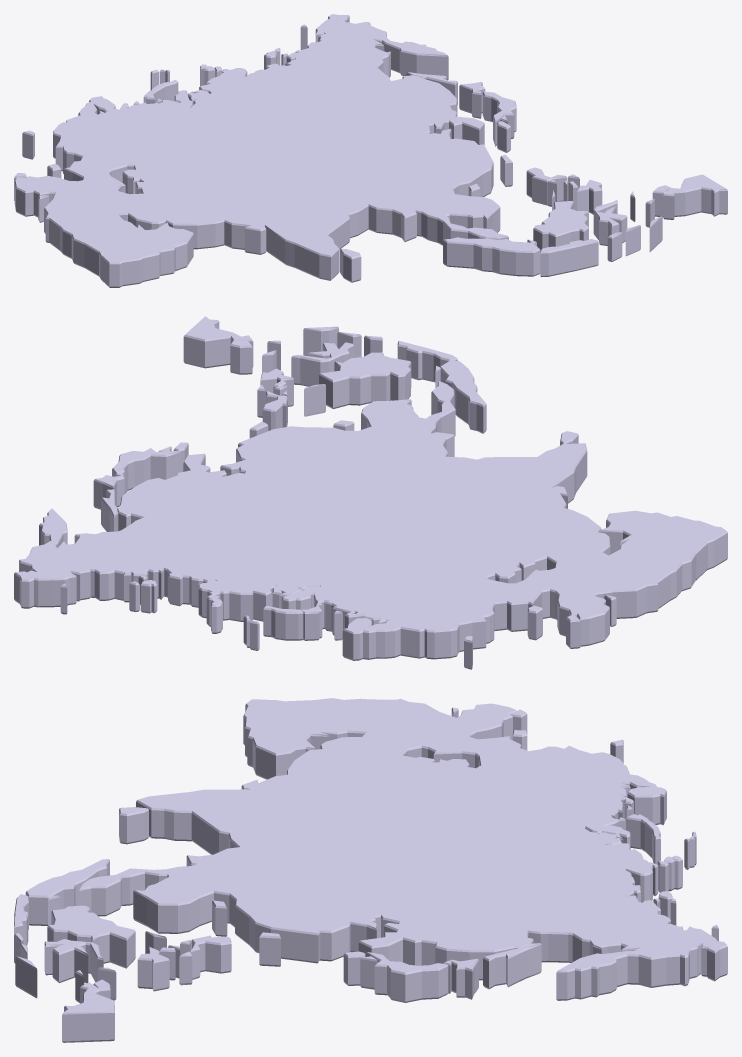
Rendered from asia.glb.
The picture shows the model from 3 angles, top to bottom: view 1: azimuth 30°, elevation 25°; view 2: azimuth 150°, elevation 25°; view 3: azimuth 270°, elevation 25°; orthographic projection. The views are drawn at different scales.
Bounding box in the file's own units: 1.51 × 0.068 × 1.45.
